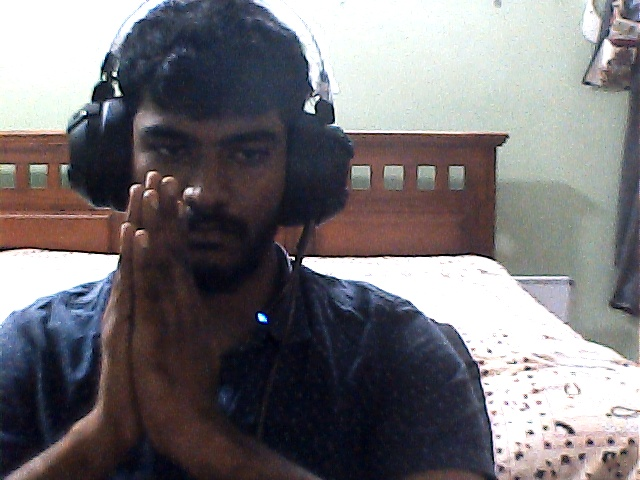Sign: (94, 169, 220, 459)
